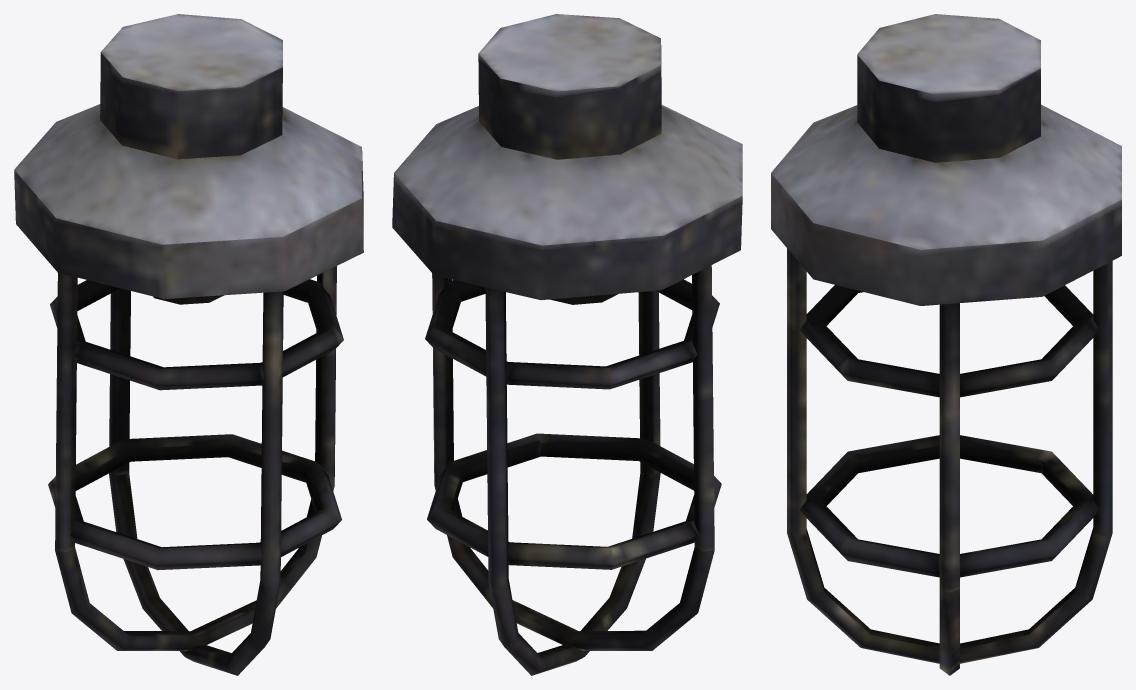
File: HangingBulbHolder.FBX
3 renders of one model, left to right at view 1: azimuth 30°, elevation 25°; view 2: azimuth 150°, elevation 25°; view 3: azimuth 270°, elevation 25°, orthographic.
Visible parts, largest first — view 1: HangingBulb; view 2: HangingBulb; view 3: HangingBulb.
Boxes of the visible parts, <box> form: HangingBulb: <box>14,14,363,675</box>; HangingBulb: <box>392,14,742,675</box>; HangingBulb: <box>771,14,1121,675</box>.
Size of the model in its own units: 14.33 by 27.07 by 14.03.
